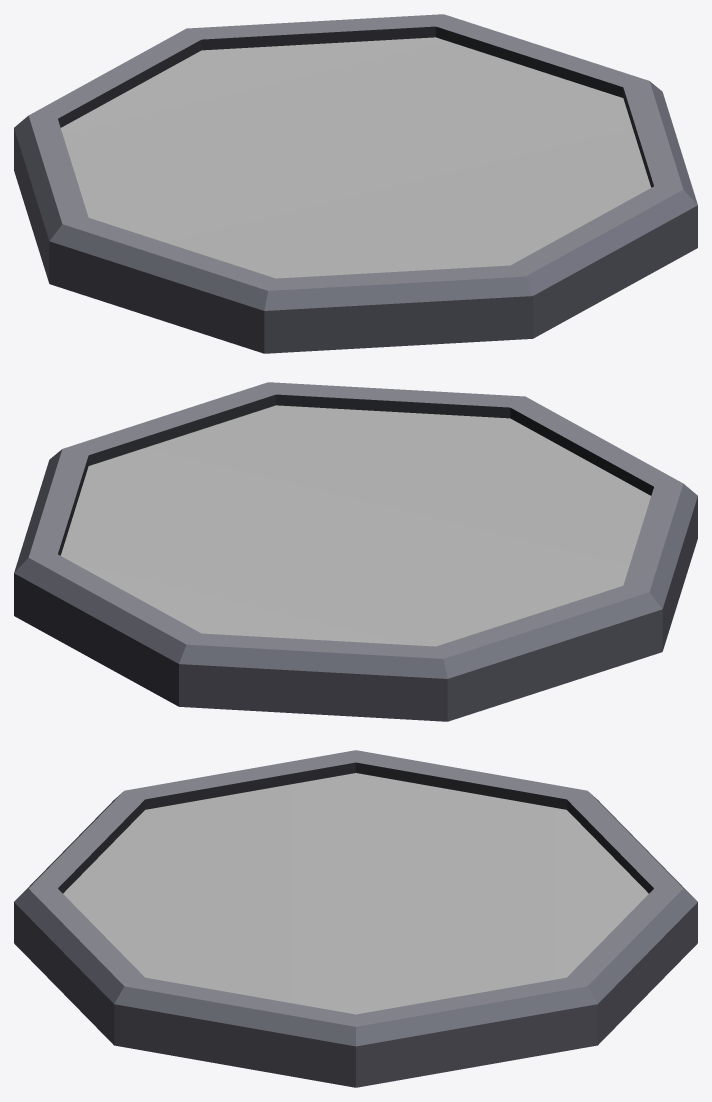
File: Light_04.glb
3 views of the same model, one above another, from view 1: azimuth 30°, elevation 25°; view 2: azimuth 150°, elevation 25°; view 3: azimuth 270°, elevation 25° (orthographic). The views are drawn at different scales.
Parts seen in each view (by area): view 1: Light_04; view 2: Light_04; view 3: Light_04.
Part boxes in pixels (box(x1,y1,x2,y2)): Light_04: box(14, 14, 697, 353); Light_04: box(14, 382, 697, 721); Light_04: box(14, 750, 697, 1087).
Size of what is drawn, in the model's own units: 2 by 0.1768 by 2.
Materials: 2 (2 with a texture image).
